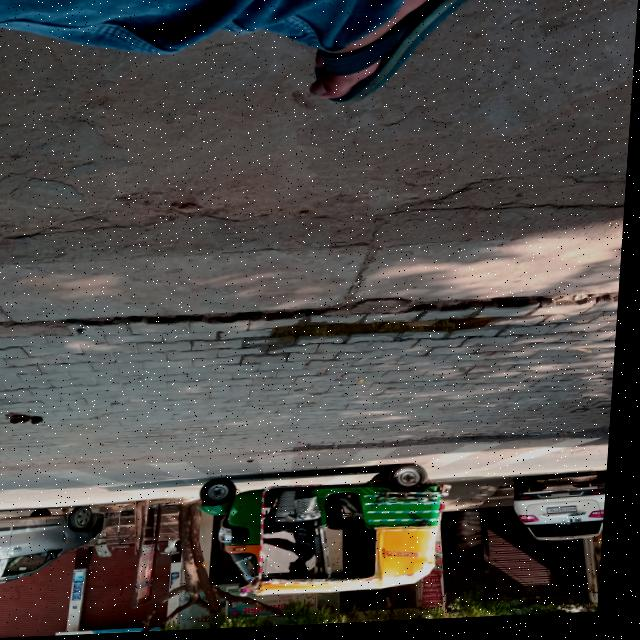plate: (555, 512, 586, 519)
